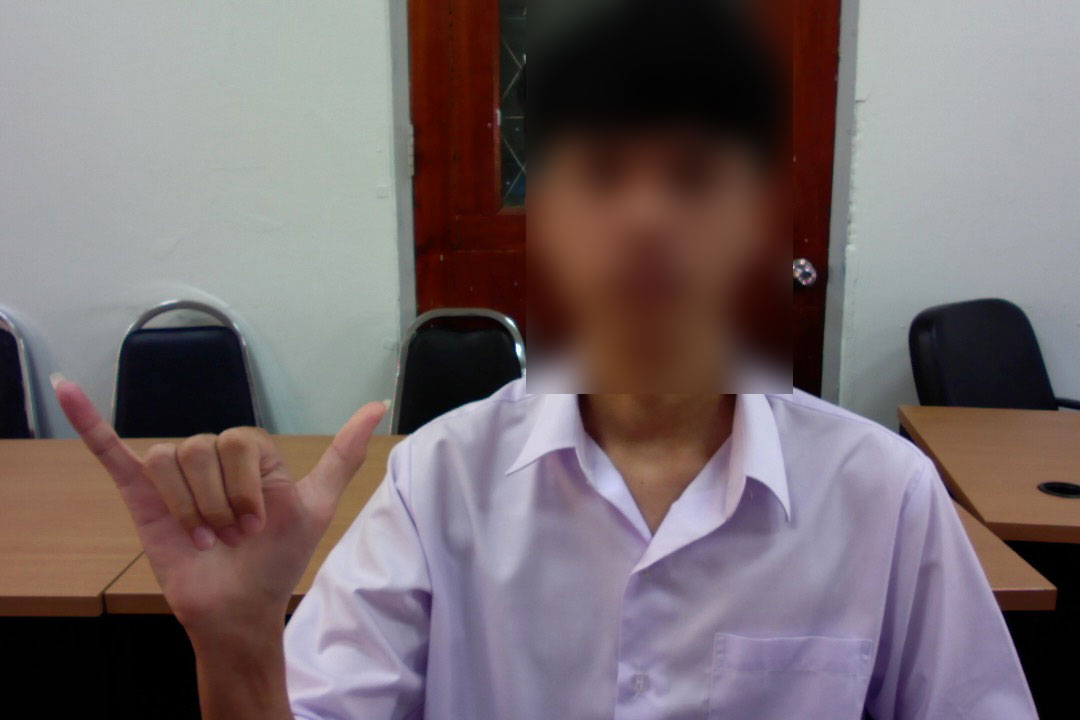yor: (37, 364, 410, 648)
